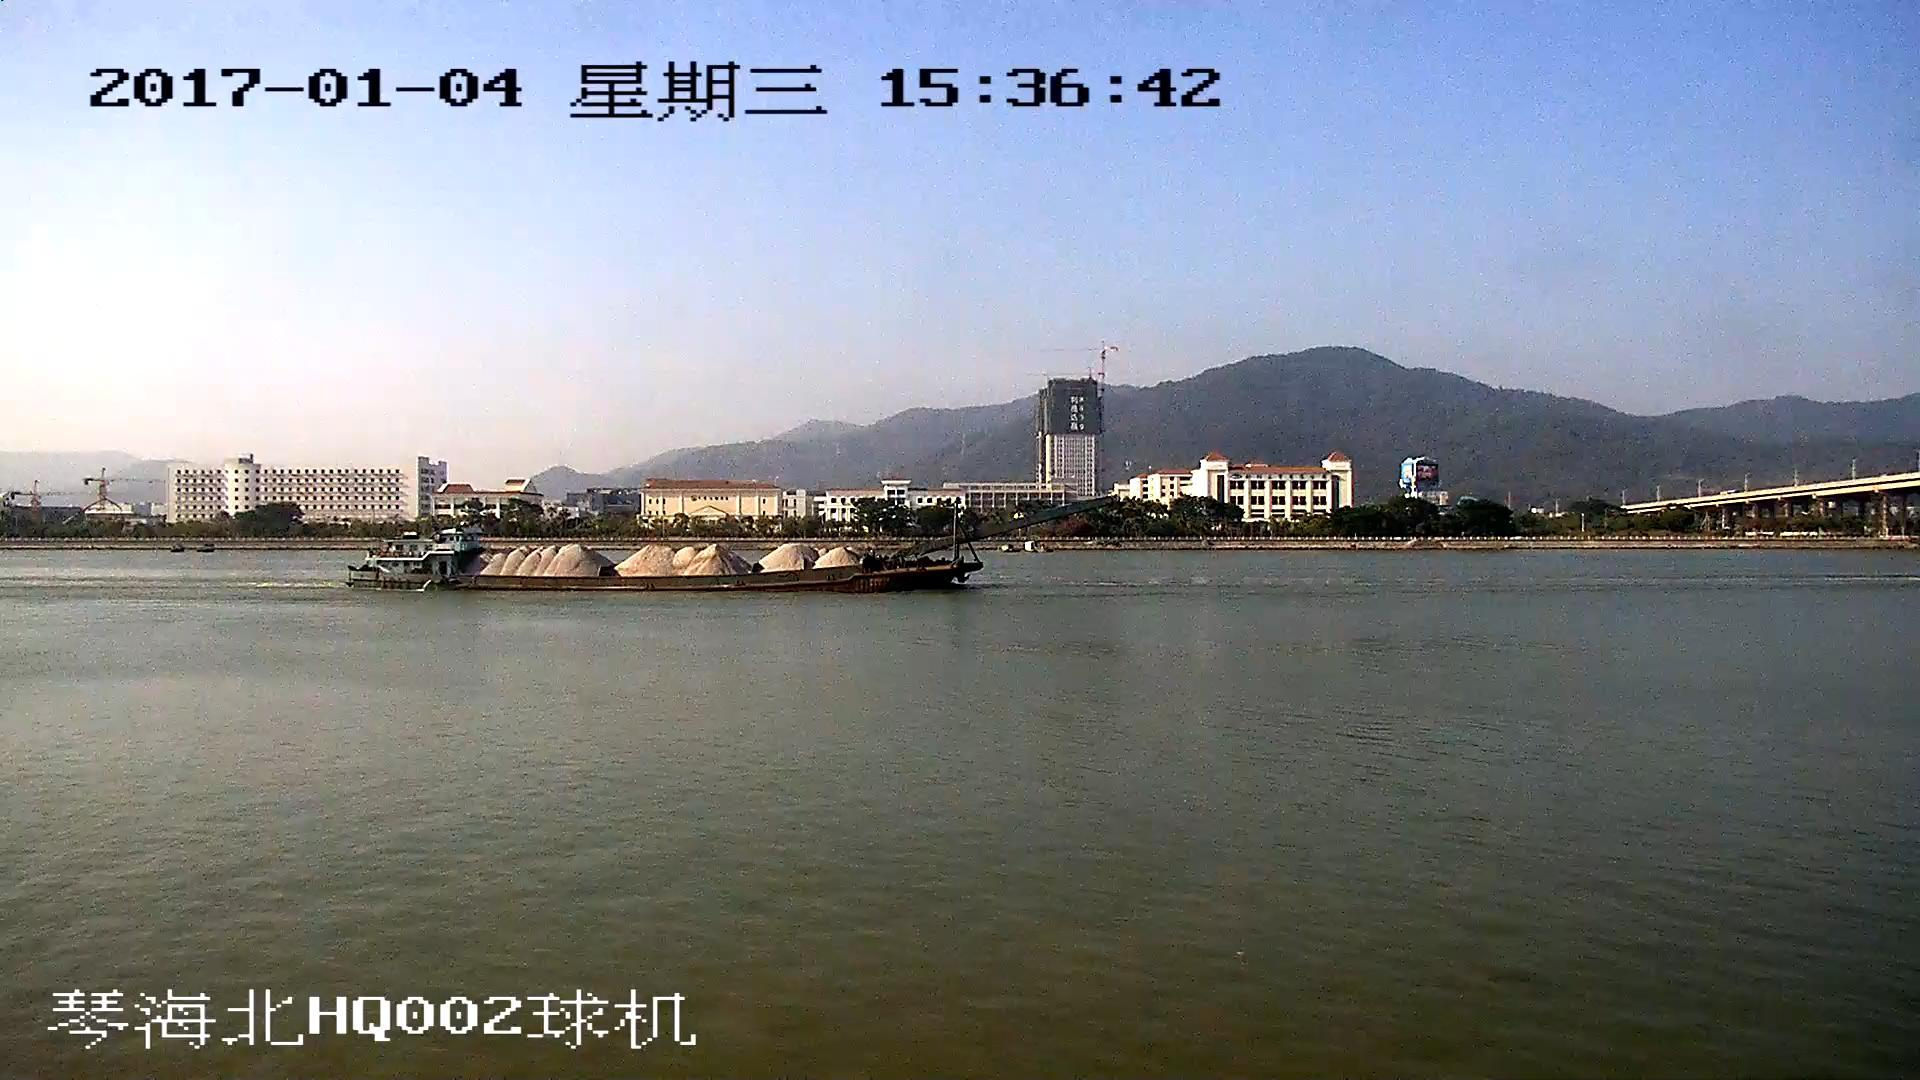Ship: (347, 500, 1113, 593)
